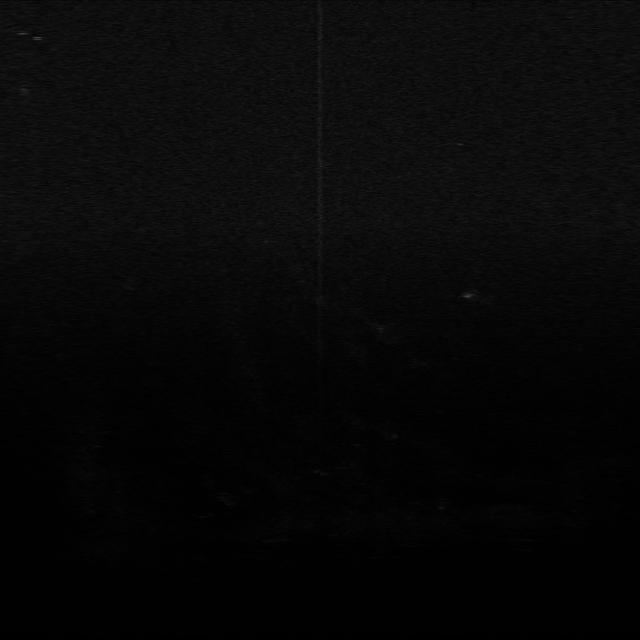rov: (10, 80, 36, 100)
